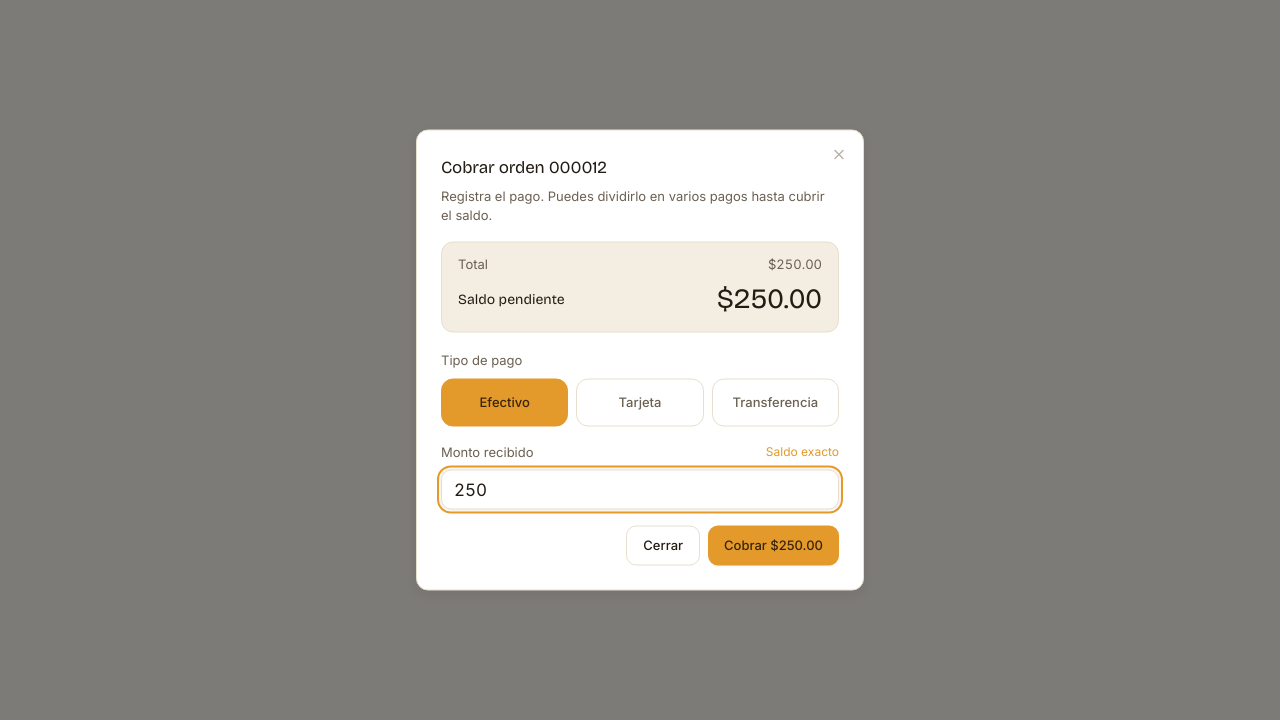
Test: CobrarDialog › pago dividido › toma el saldo restante del backend, NO de restar en el cliente
The image size is (1280, 720).
Replace the text in the field with placeholder "0.00" with "100" at (640, 490), box [441, 470, 839, 510]
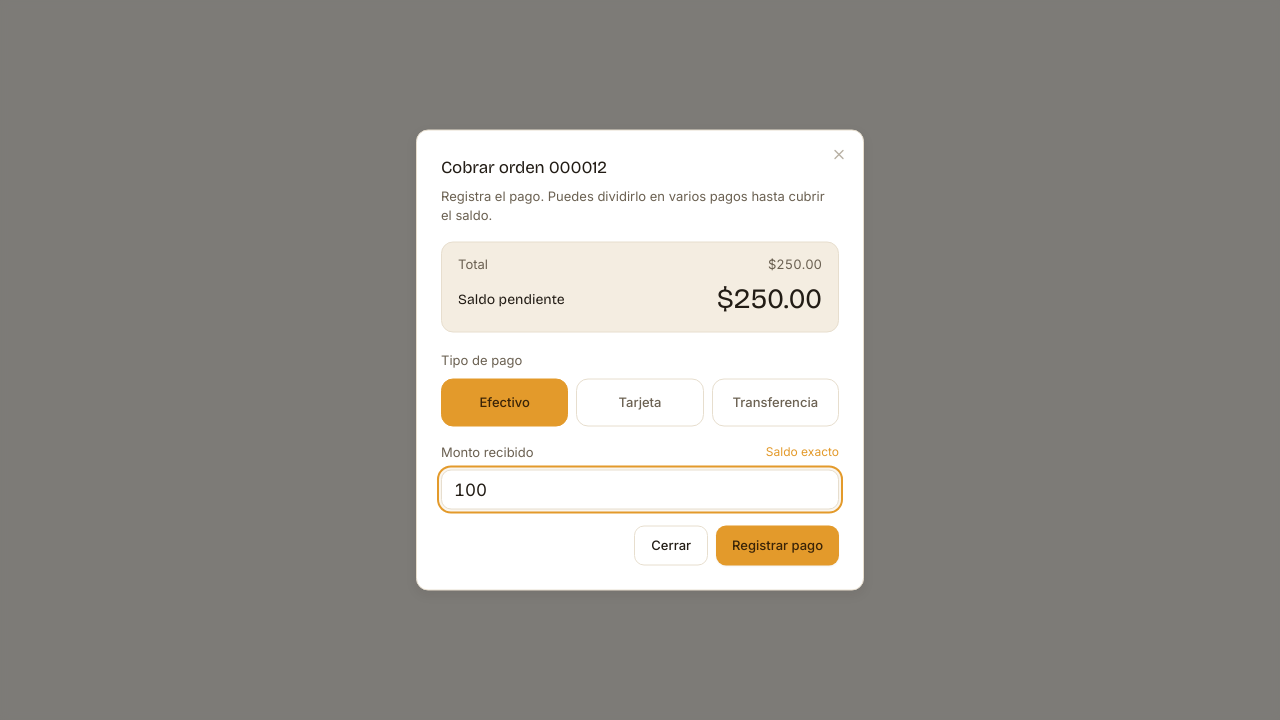
Click the button "Registrar pago" at (778, 546), box [716, 526, 839, 566]
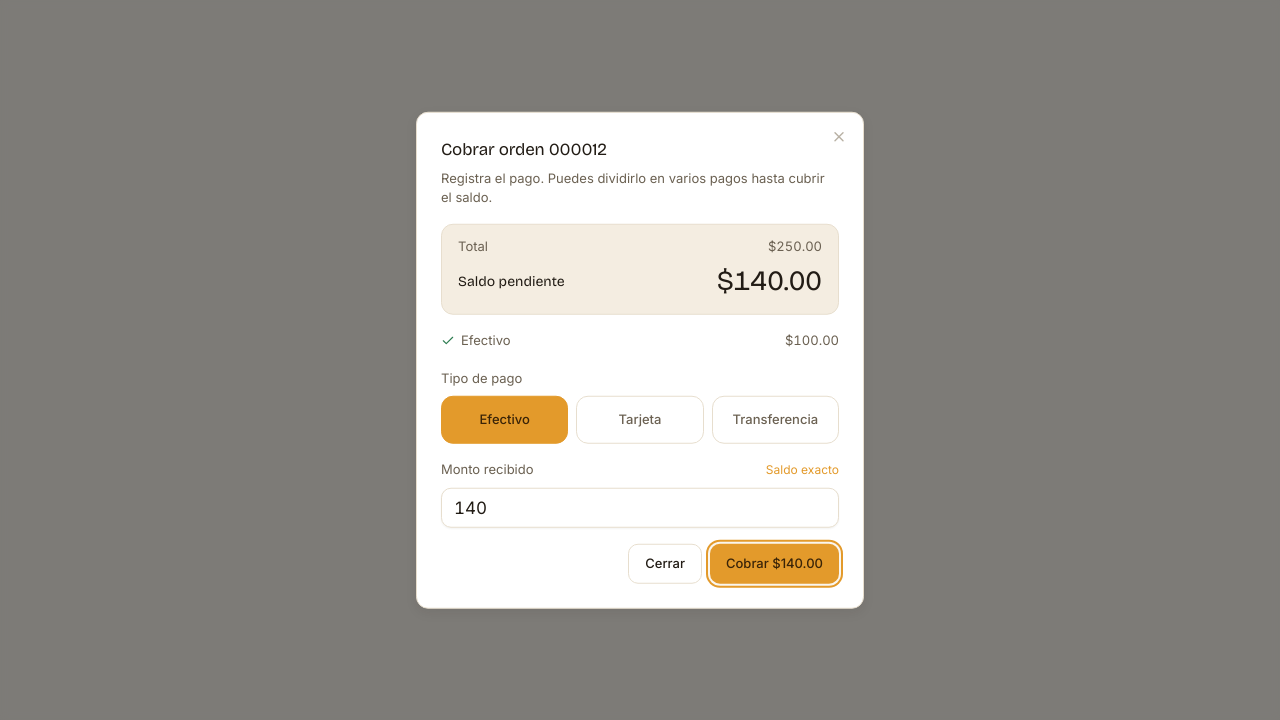
Check: the field with placeholder "0.00" holds "140", box [441, 487, 839, 527]
